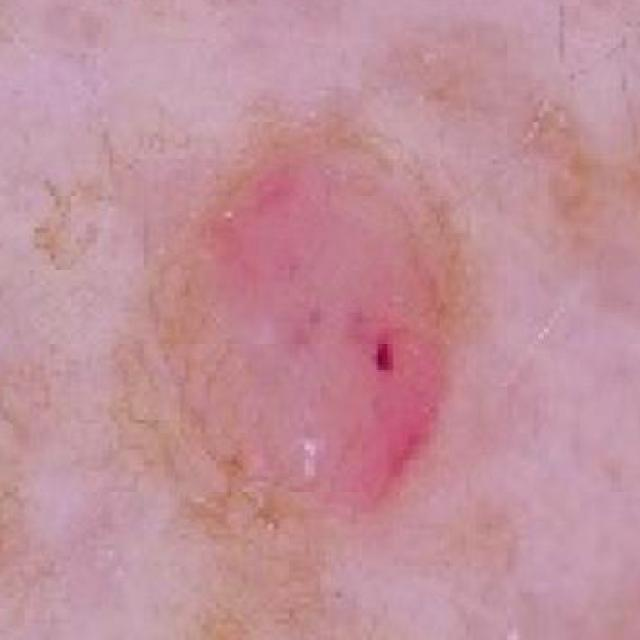BCC: (58, 107, 458, 640)
